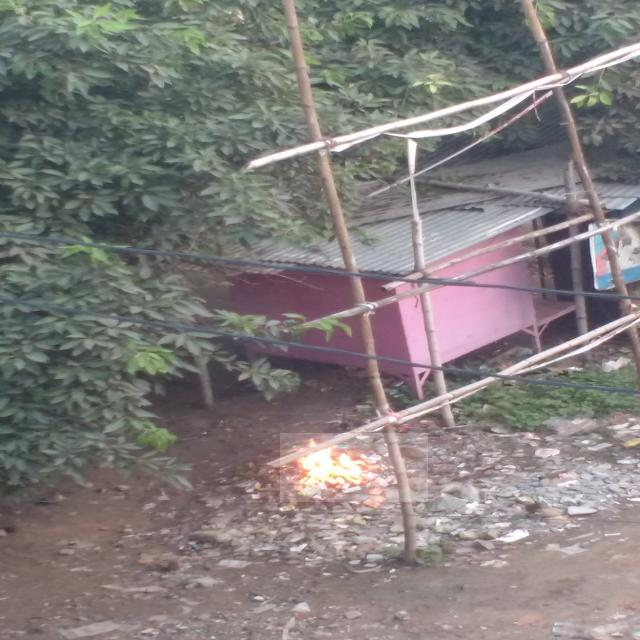Fire: (280, 433, 428, 502)
